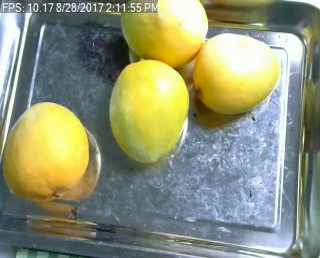Mango: (1, 99, 90, 201), (110, 58, 186, 160), (192, 32, 281, 114), (119, 0, 207, 66)
